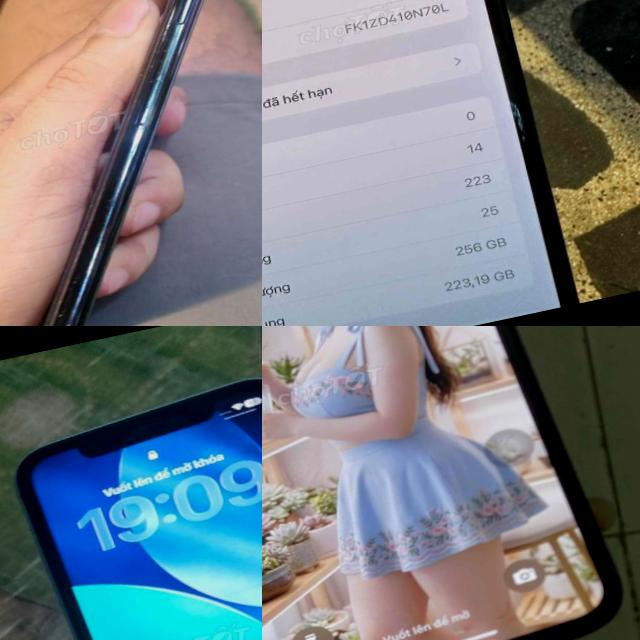scratch: (103, 38, 188, 98), (26, 308, 86, 326)
